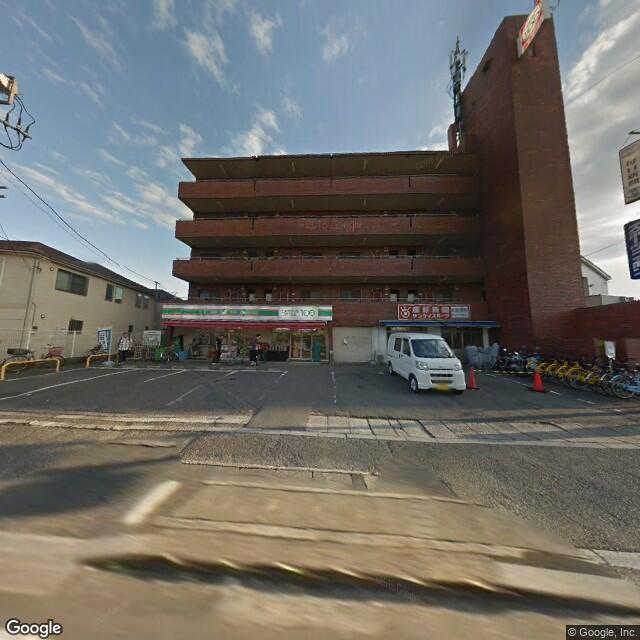lawson: (159, 300, 339, 324)
